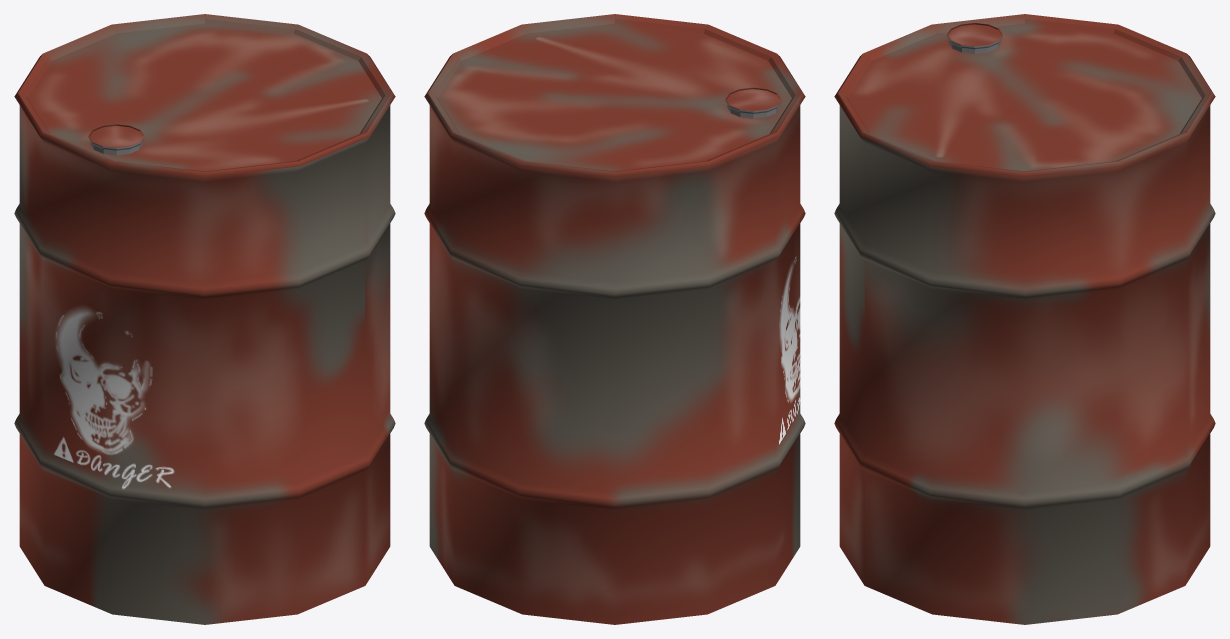
File: Bomb.fbx
3 renders of one model, left to right at view 1: azimuth 30°, elevation 25°; view 2: azimuth 150°, elevation 25°; view 3: azimuth 270°, elevation 25°, orthographic.
Visible parts, largest first — view 1: Cylinder001; view 2: Cylinder001; view 3: Cylinder001.
Part boxes in pixels (x1,y1,x2,y2): Cylinder001: [14, 14, 395, 624]; Cylinder001: [424, 14, 805, 624]; Cylinder001: [834, 14, 1215, 624].
Bounding box in the file's own units: 22.64 × 29.94 × 22.64.
